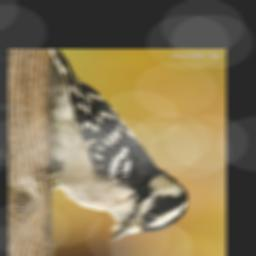Woodpecker: (39, 49, 190, 243)
